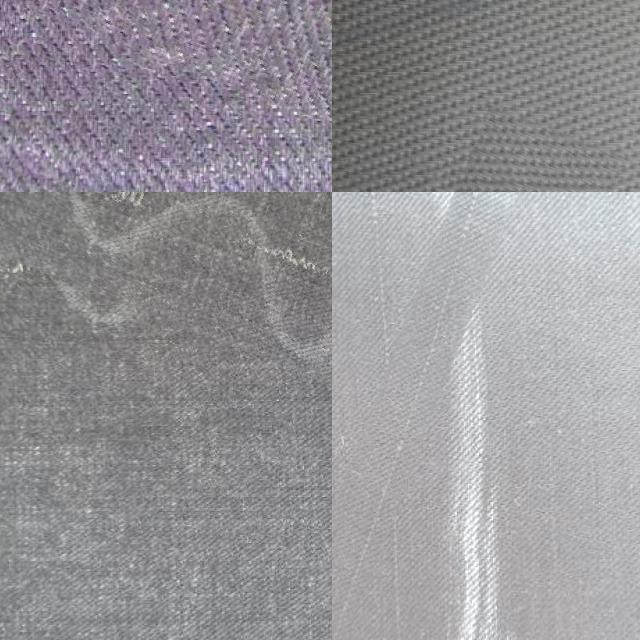Thread_other: (0, 192, 332, 420), (332, 192, 464, 640), (434, 114, 611, 192)
